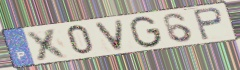0: (65, 23, 97, 57)
6: (162, 12, 195, 45)
G: (129, 15, 164, 49)
P: (191, 6, 225, 42)
V: (92, 18, 126, 53)
X: (23, 27, 72, 62)
